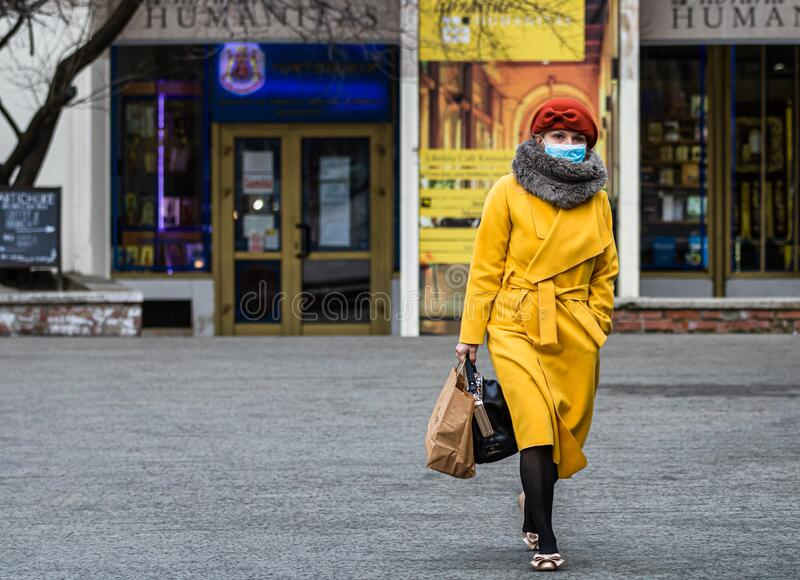with_mask: (532, 106, 594, 171)
